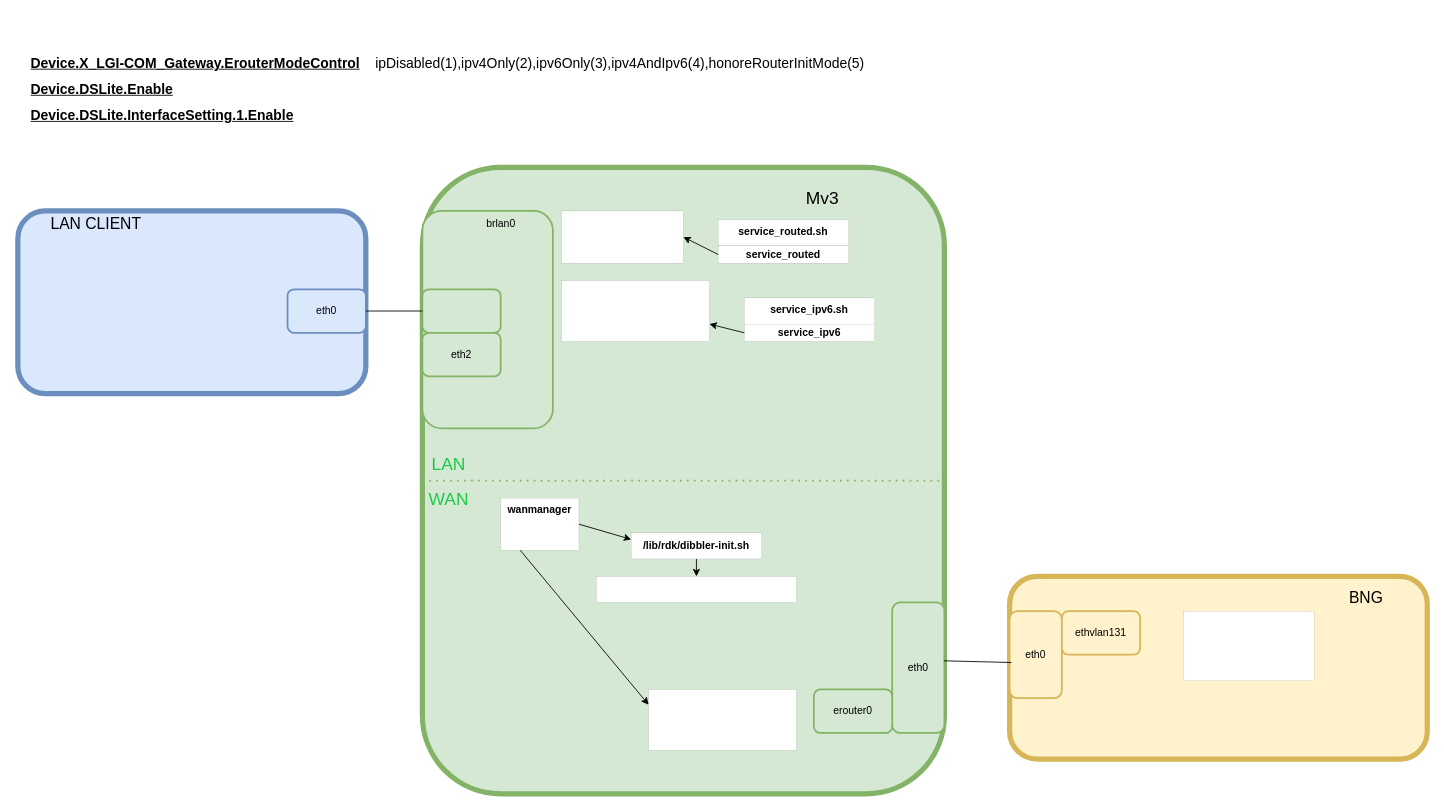
Image size: 1444x811. Some labels were removed from this diagram. Here are the shapes that lost their labels. From the top down, the centre of each, then its label:
At point (622, 237): "/usr/sbin/zebra /var/zebra.conf".
At point (461, 310): "eth1".
At point (635, 310): "/usr/sbin/dibbler-server /etc/dibbler/server.conf -> /var/tmp/dhcp6s.conf".
At point (696, 589): "/lib/rdk/prepare_dhcpv6_config.sh".
At point (1248, 645): "isc-dhcp-server /etc/dhcp/dhcpd.conf /etc/dhcp/dhcpd6.conf".
At point (722, 719): "/usr/sbin/dibbler-client /etc/dibbler/client.conf -> /tmp/dibbler/client.conf".
